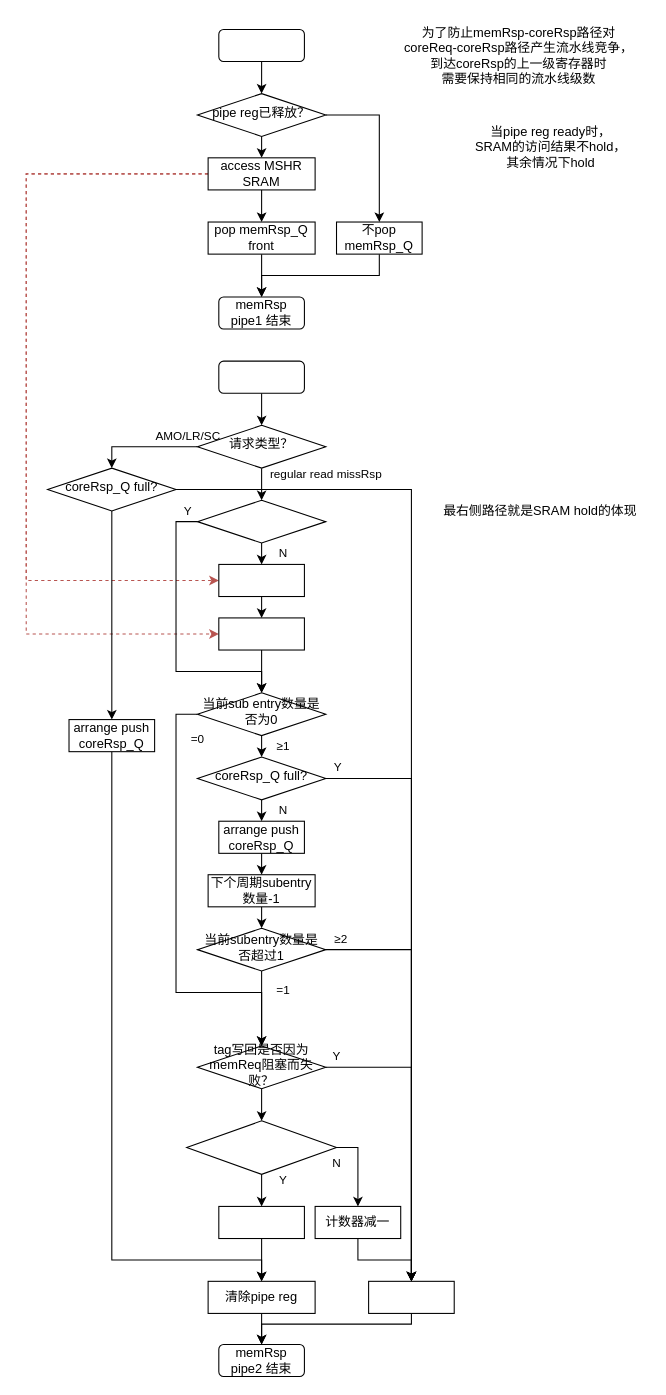
This 666x1395 diagram has some shape labels left out. The box of each missing label's shape, as (x1, y1, x2, y2) in pixels:
data更新离完成还剩一个周期？: (186, 1120, 337, 1174)
memRsp pipe1: (218, 28, 304, 62)
memRsp pipe2: (218, 360, 304, 393)
tag更新已发布？: (196, 499, 326, 543)
不清除pipe reg: (368, 1280, 454, 1313)
发起data更新: (218, 617, 304, 650)
发起tag更新: (218, 563, 304, 597)
计数器复位: (218, 1205, 304, 1239)
